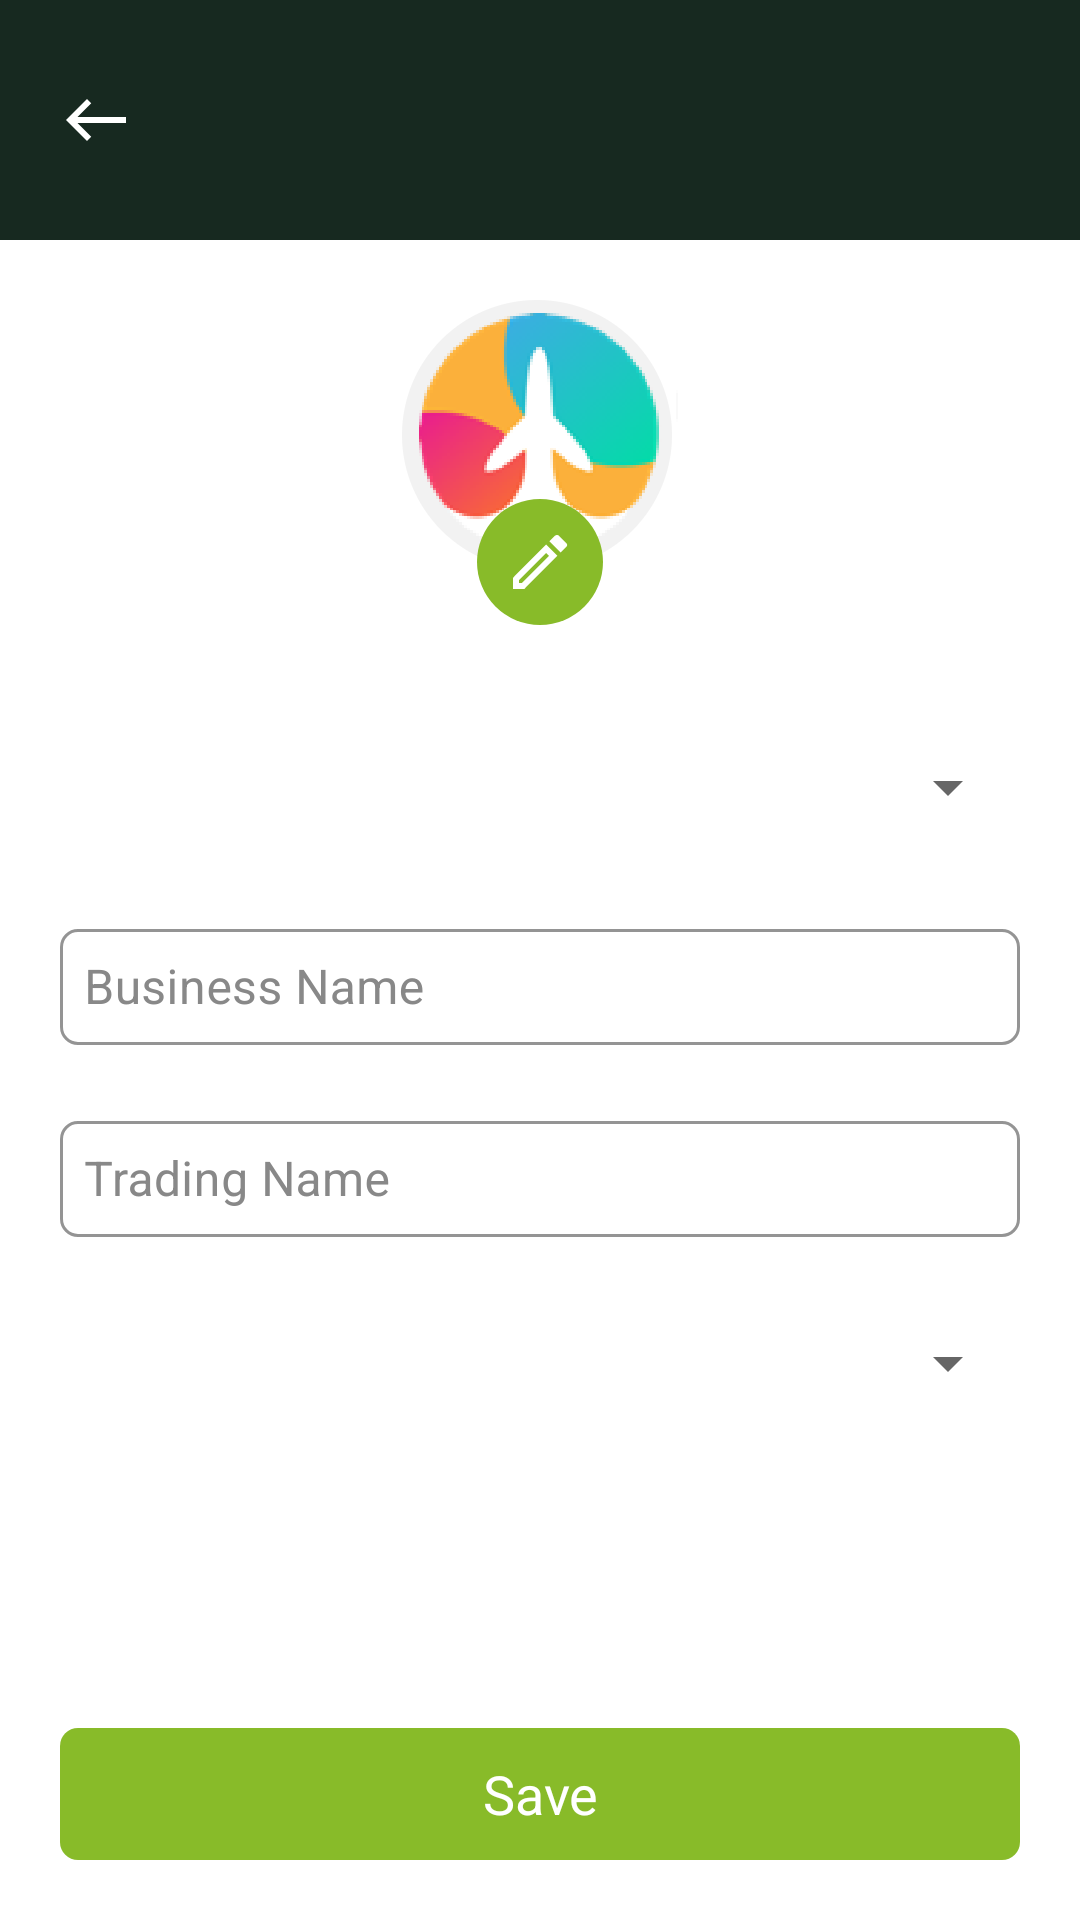

Icons on this 1080*1920 Android screen, each with the point to tap as [x,y]:
arrow back: [96,120]
edit: [540,553]
